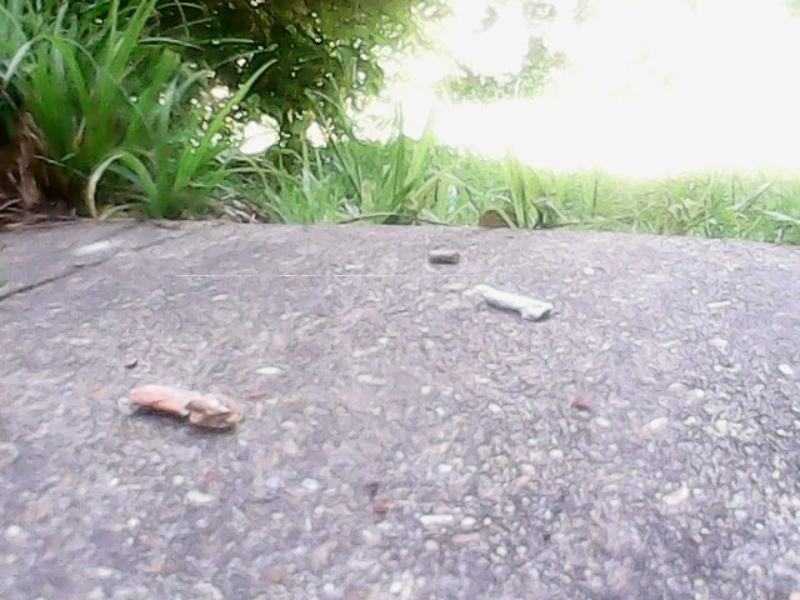cig: (124, 370, 248, 438), (476, 283, 558, 323), (428, 243, 458, 262)
